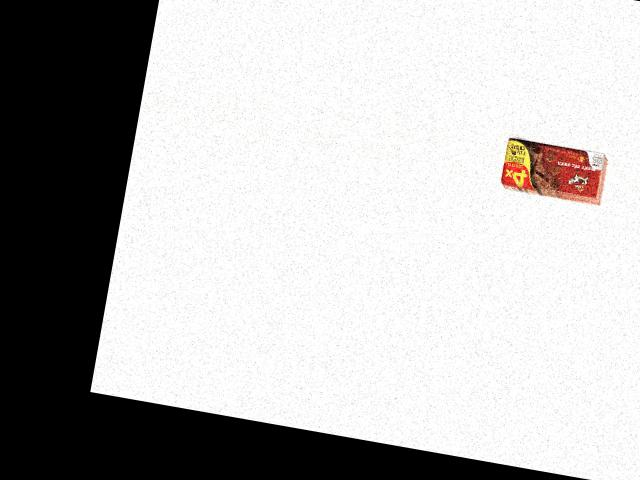chocolate: (498, 134, 607, 204)
